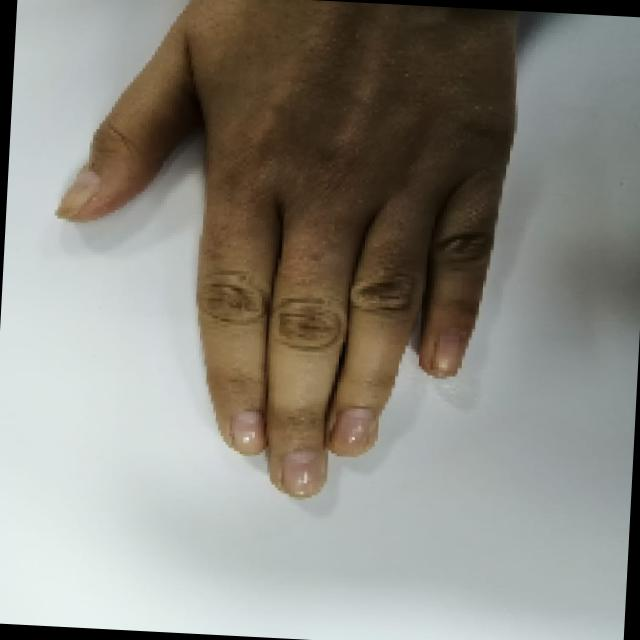Nail: (328, 407, 375, 455), (57, 168, 100, 218), (281, 450, 325, 496), (229, 409, 262, 454), (433, 329, 462, 375)
